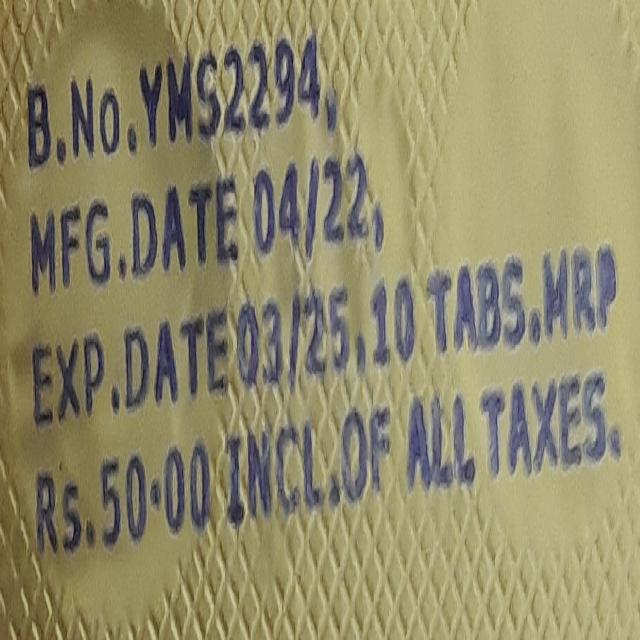sentence: (35, 369, 621, 557), (30, 243, 619, 428), (30, 151, 384, 295), (28, 33, 321, 170)
